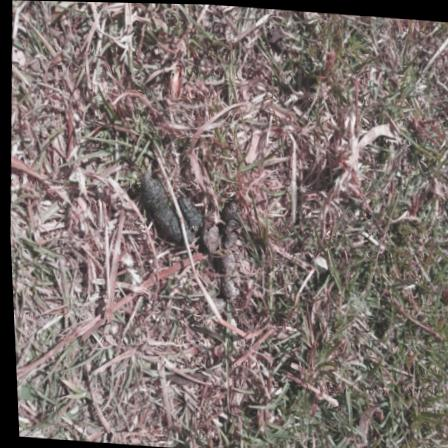dog-poop: (128, 166, 263, 298)
